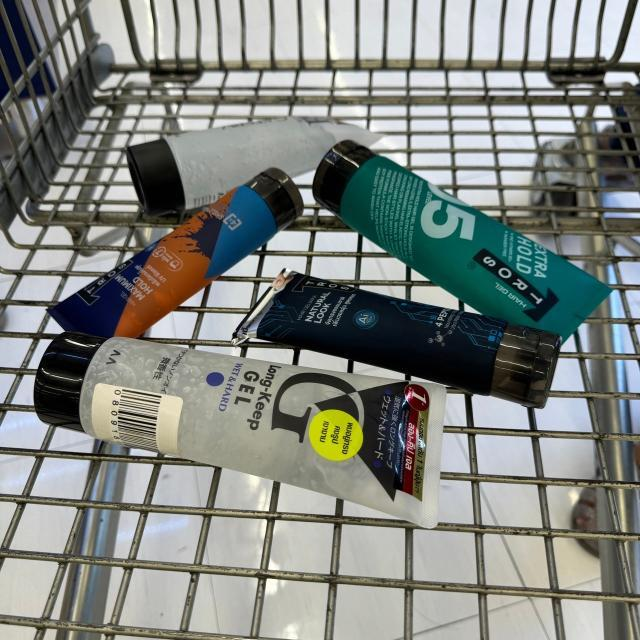Squeeze Tube: (25, 332, 450, 532), (306, 134, 621, 337), (231, 256, 571, 423), (42, 161, 310, 343), (112, 93, 407, 225)
